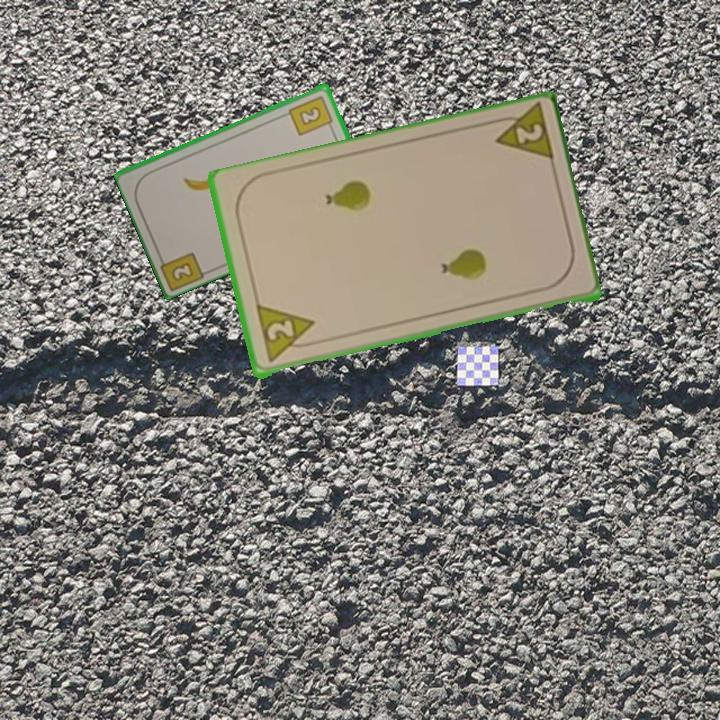2b: (285, 92, 336, 138), (155, 248, 208, 292)
2p: (486, 103, 557, 167), (252, 303, 320, 366)
